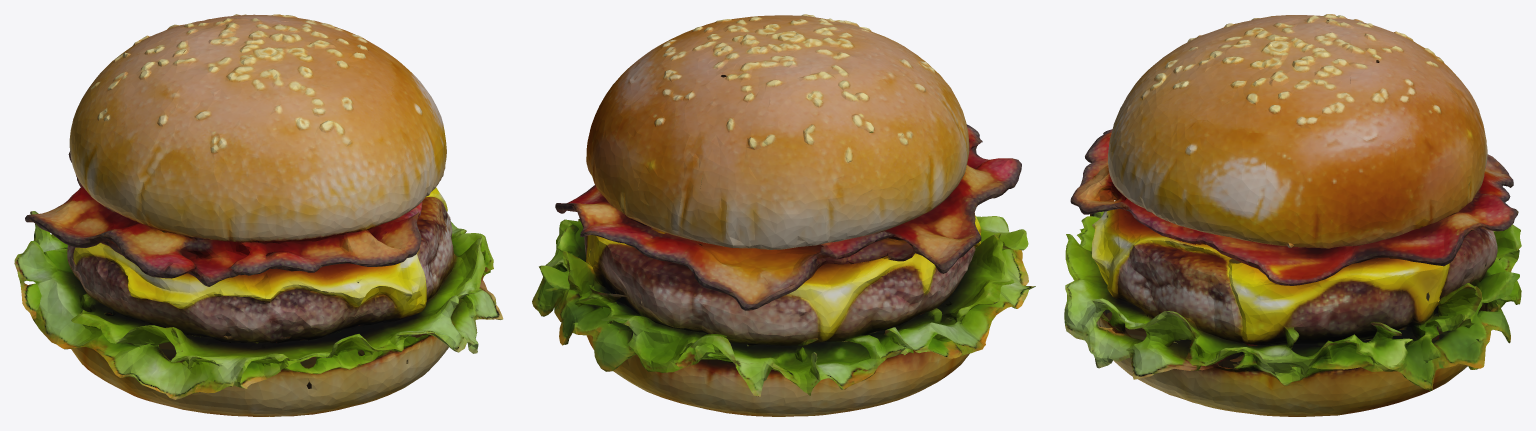
Rendered from hamburguer.glb.
3 views of the same model, side by side, from view 1: azimuth 30°, elevation 25°; view 2: azimuth 150°, elevation 25°; view 3: azimuth 270°, elevation 25° (orthographic).
Visible parts, largest first — view 1: world; view 2: world; view 3: world.
Boxes of the visible parts, x1,y1,x2,y2 form: world: (14,14,503,416); world: (532,14,1035,416); world: (1064,14,1521,416).
Bounding box in the file's own units: 0.9995 × 0.7228 × 0.9988.
1 material, 1 textured.
